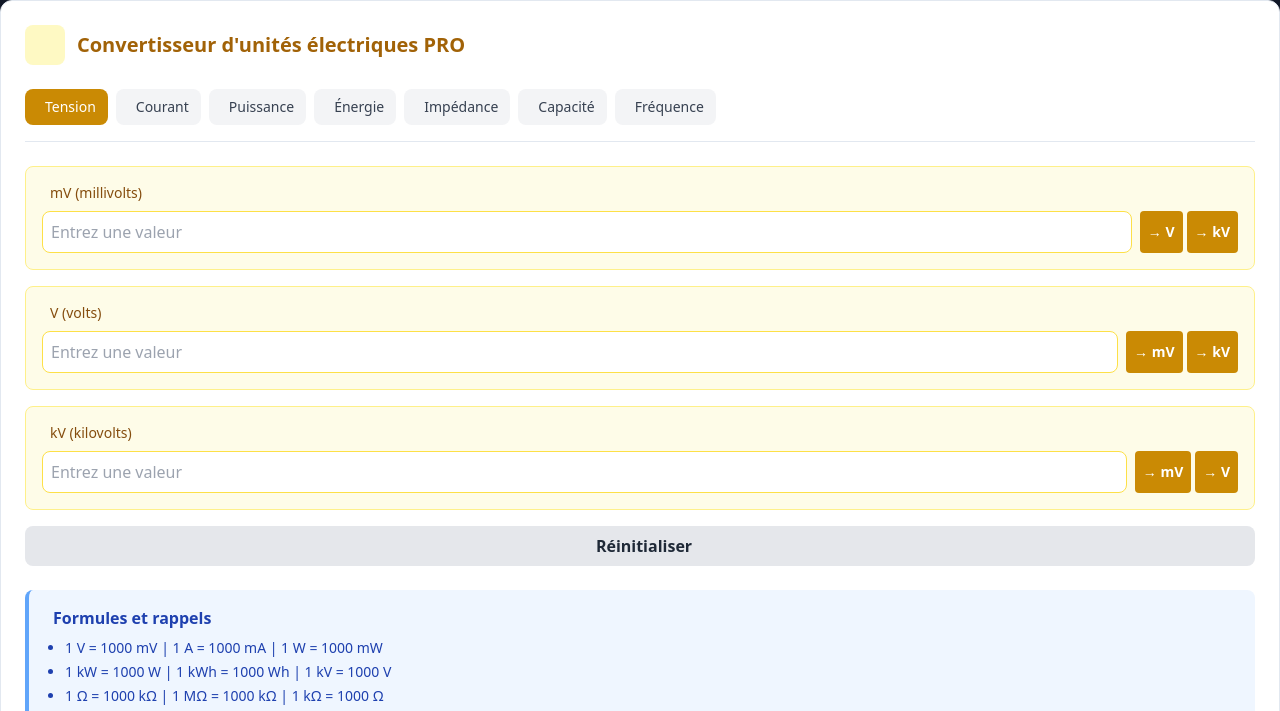
ElectricalUnitConverter › converts V to mV correctly
Note: Type 10 in V input
In the number field named "Valeur en V": (580, 352) [42,331,1118,373], type "10"
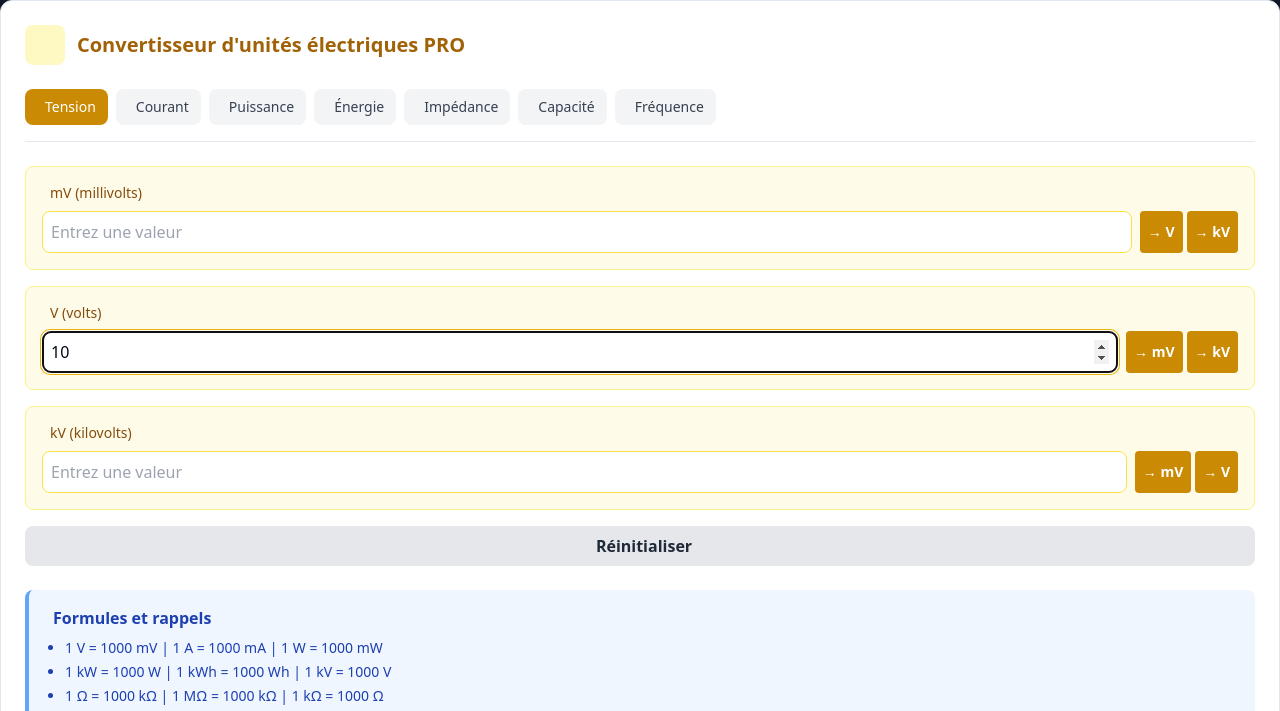
Note: Find and click the V to mV conversion button
Click the 1st button titled "Convertir V en mV": (1154, 352) [1126,331,1183,373]
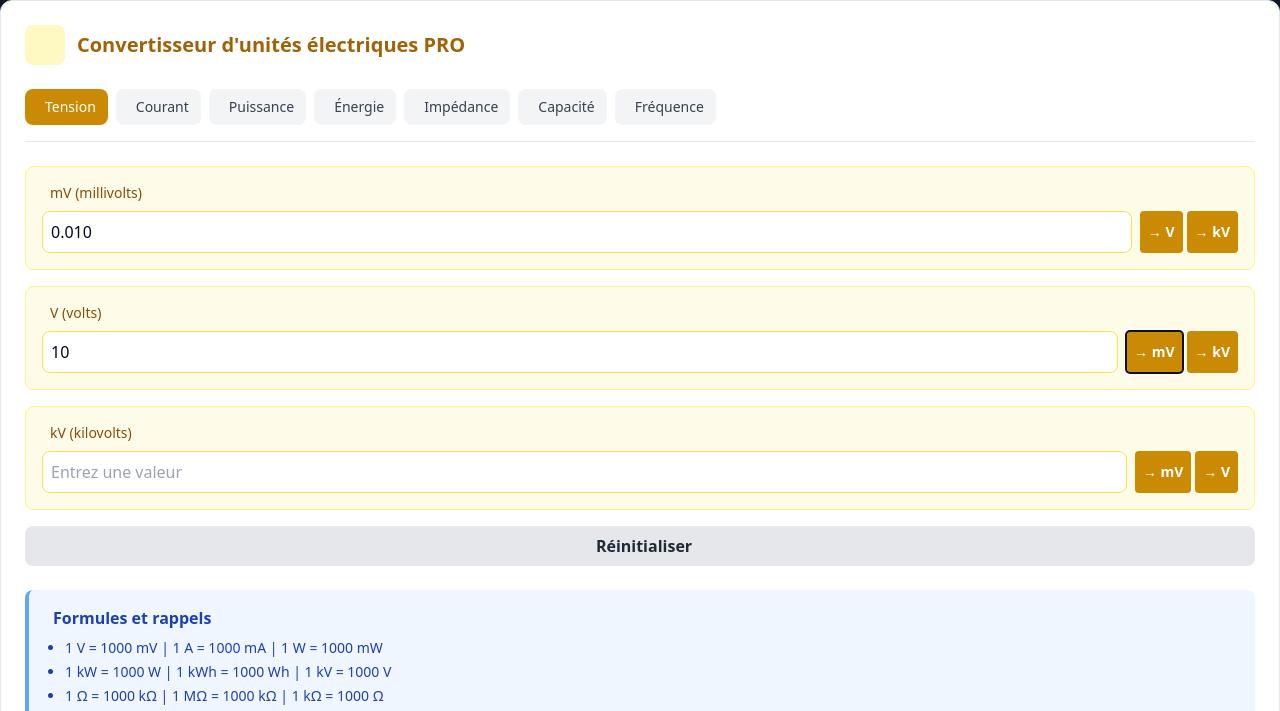
Expected: the number field showing "0.01" is shown, [42,211,1132,253]
